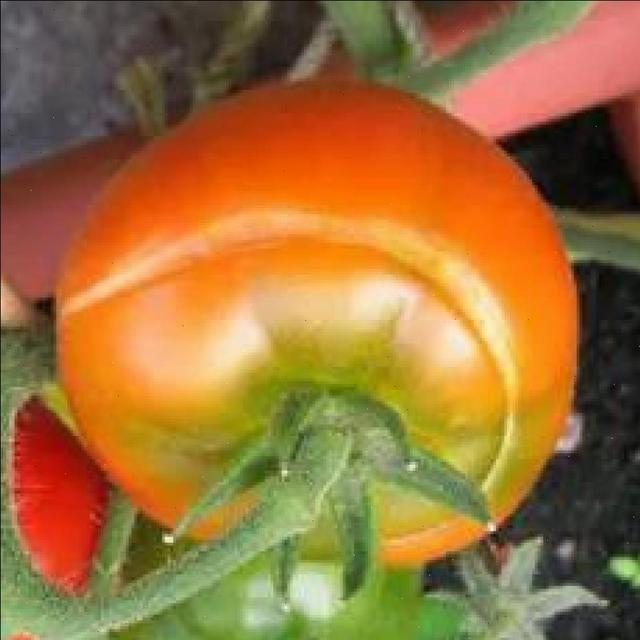Cracking Fruit: (32, 118, 354, 373)
